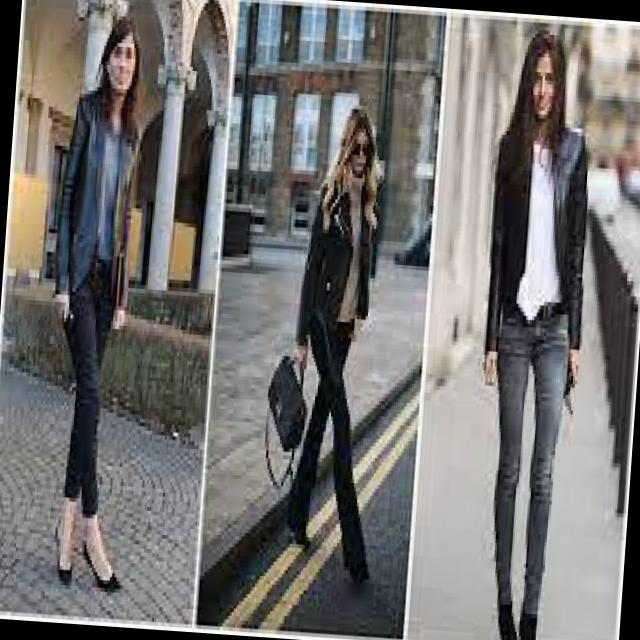Jacket: (474, 113, 606, 395), (50, 87, 148, 336), (289, 174, 388, 370)
